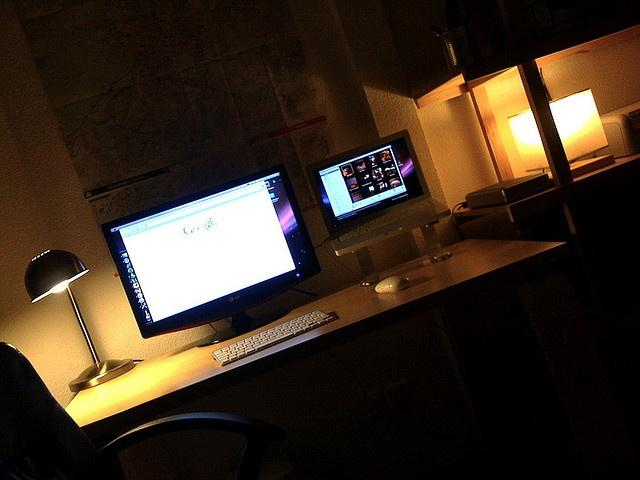AIO PC-Monitor-TV: (100, 163, 321, 347)
